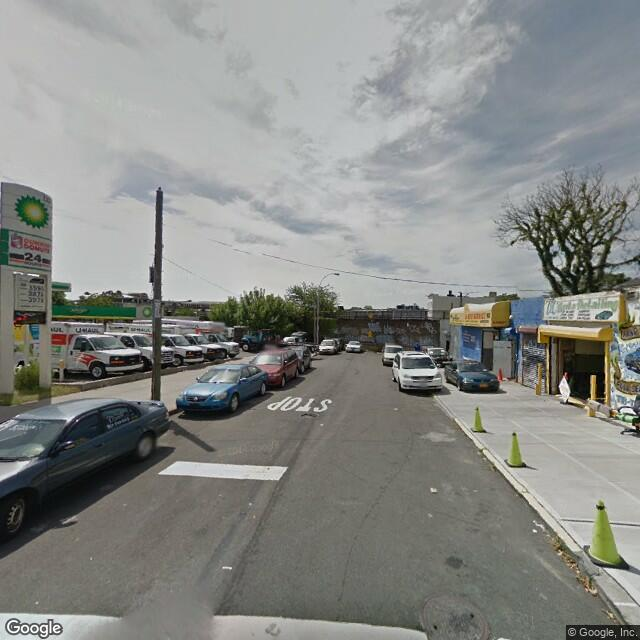litter: (532, 516, 598, 590), (425, 484, 451, 495)
